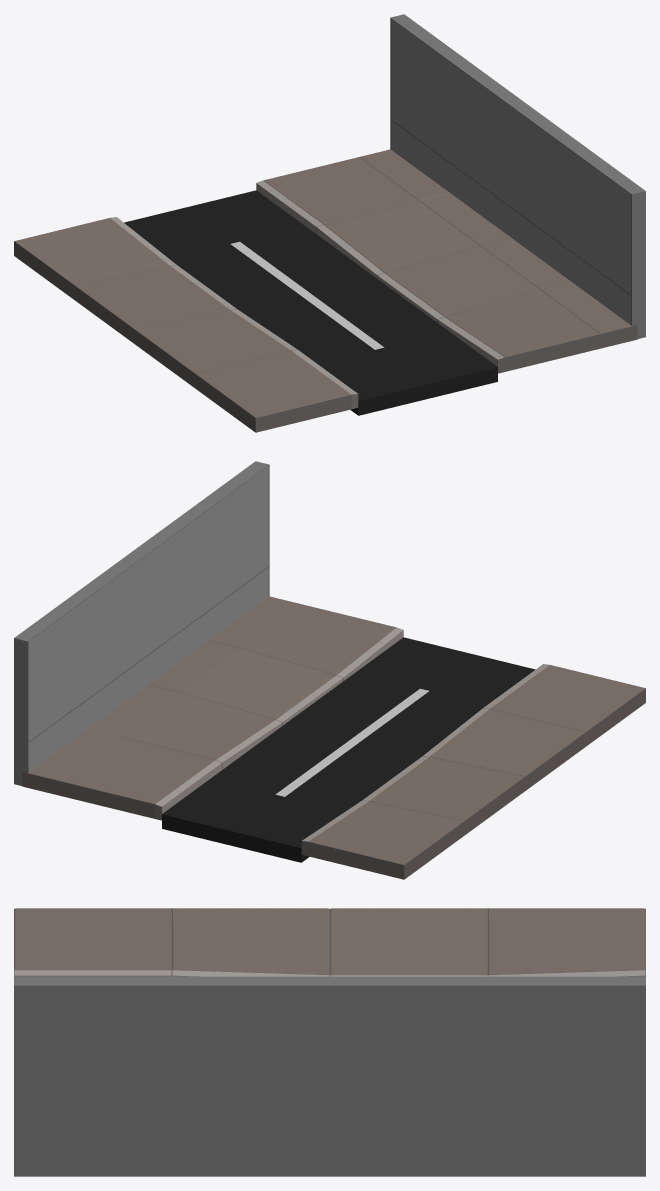
Rendered from street.glb.
3 renders of one model, top to bottom at view 1: azimuth 30°, elevation 25°; view 2: azimuth 150°, elevation 25°; view 3: azimuth 270°, elevation 25°, orthographic. The views are drawn at different scales.
Parts seen in each view (by area): view 1: Cube.014, Cube.005, Cube.003, Cube.034; view 2: Cube.014, Cube.005, Cube.003, Cube.034; view 3: Cube.014, Cube.034.
Part boxes in pixels (<box>): Cube.014: <box>390,14,645,338</box>; Cube.005: <box>256,149,637,373</box>; Cube.003: <box>124,190,497,415</box>; Cube.034: <box>14,217,358,432</box>; Cube.014: <box>14,461,269,785</box>; Cube.005: <box>22,596,403,820</box>; Cube.003: <box>162,637,535,862</box>; Cube.034: <box>301,664,645,879</box>; Cube.014: <box>14,976,645,1176</box>; Cube.034: <box>14,908,645,976</box>.
Size of the model in its own units: 55.97 by 21.17 by 60.
Materials: 12 (1 with a texture image).
